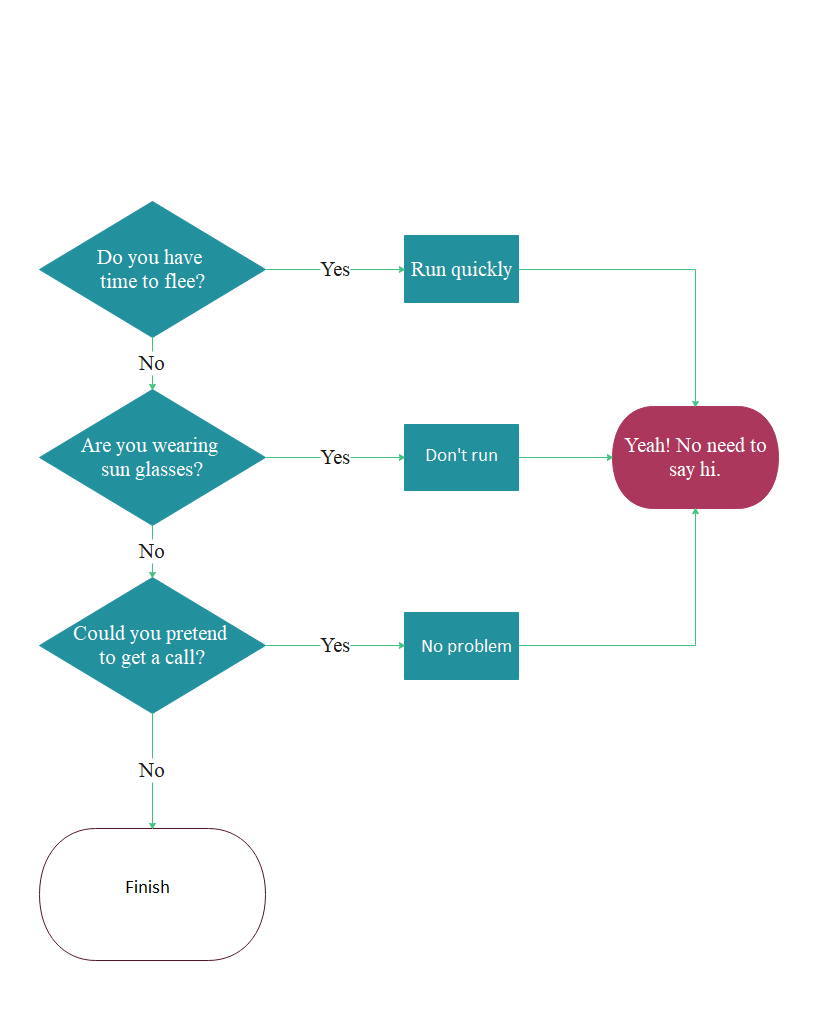arrow: (515, 504, 702, 652), (516, 265, 702, 407), (260, 638, 409, 654), (144, 709, 163, 832), (263, 262, 407, 276), (263, 449, 404, 462), (516, 449, 619, 466), (143, 331, 165, 395), (144, 520, 163, 581)
decision: (34, 198, 269, 343), (35, 387, 269, 531), (35, 579, 268, 716)
process: (399, 229, 524, 309), (399, 417, 522, 494), (401, 609, 523, 684)
terminator: (34, 823, 269, 965), (609, 401, 782, 515)
text: (69, 620, 234, 670), (621, 434, 773, 484), (79, 434, 224, 484), (91, 245, 207, 295), (409, 256, 513, 282), (418, 635, 513, 657), (423, 443, 502, 465), (121, 874, 173, 898), (313, 632, 359, 657), (315, 448, 354, 470), (319, 256, 354, 279), (137, 759, 169, 779), (137, 540, 166, 560), (135, 352, 165, 371)
